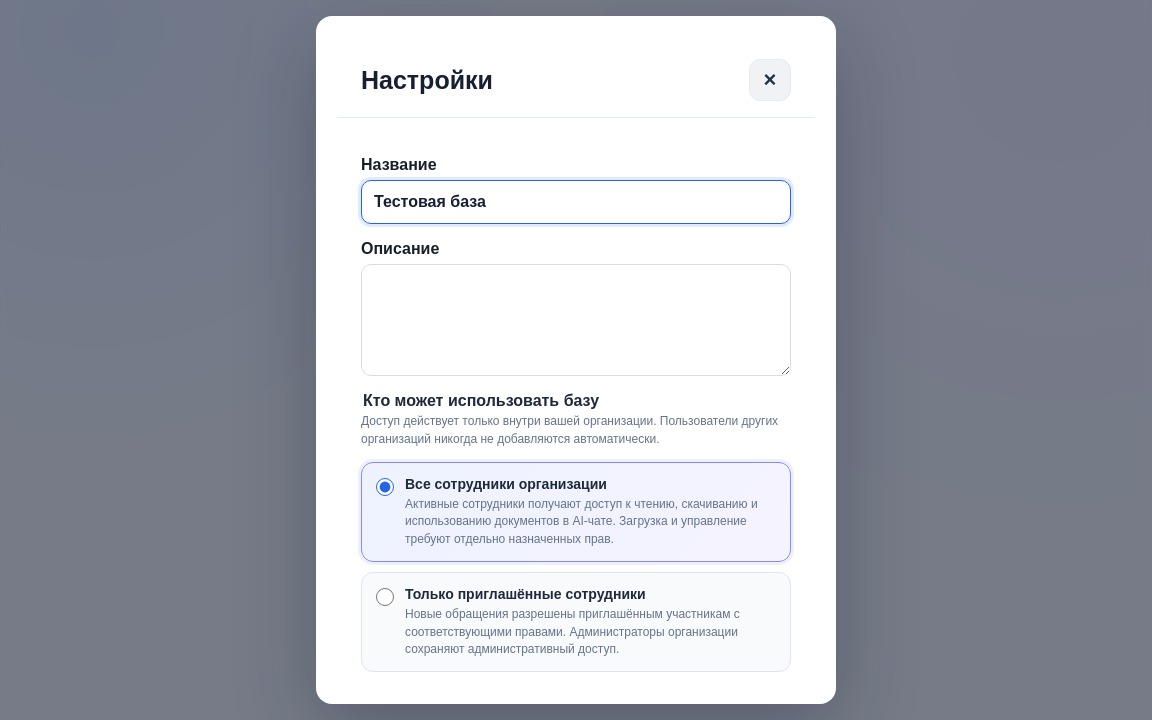
KnowledgeBaseFormModal › разъясняет VIEWER-доступ и сохранение истории после изменения видимости
The image size is (1152, 720).
Expected: the text "Загрузка и управление требуют отдельно назначенных прав" is shown, [405, 497, 758, 546]
Step 1. Click the radio button labelled "Только приглашённые сотрудники" → (385, 597), box [376, 588, 394, 606]
(page scrolled)
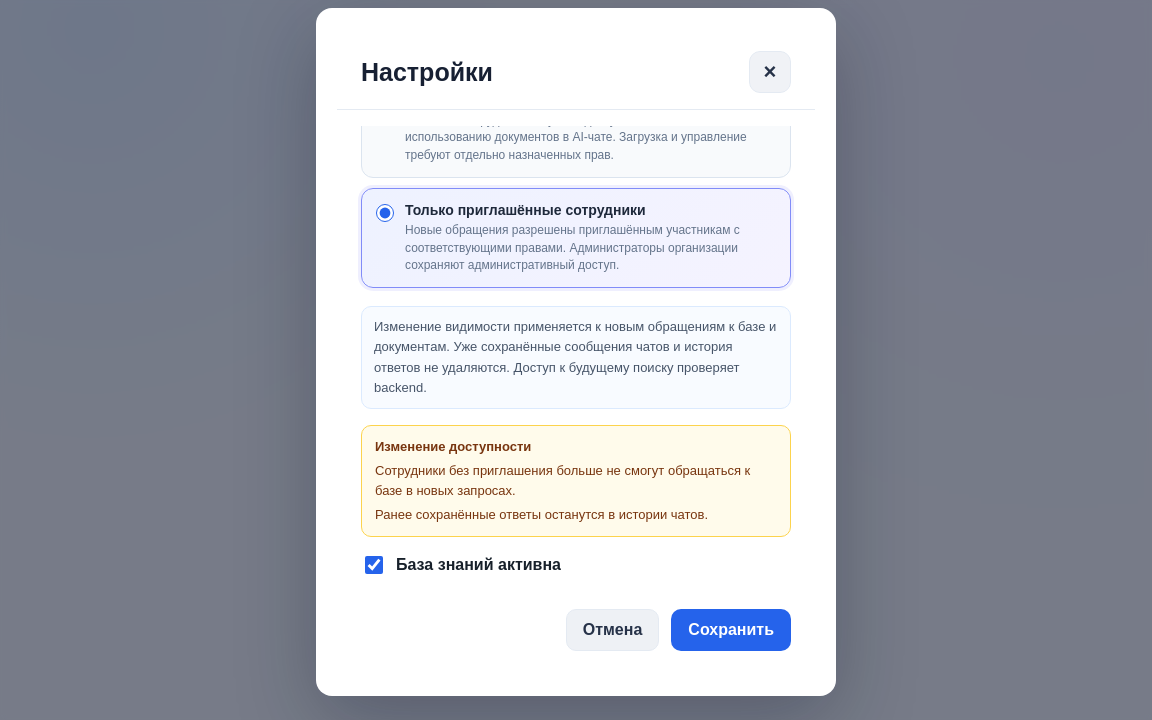
Expected: the text "без приглашения больше не смогут" is shown, [375, 463, 750, 498]
